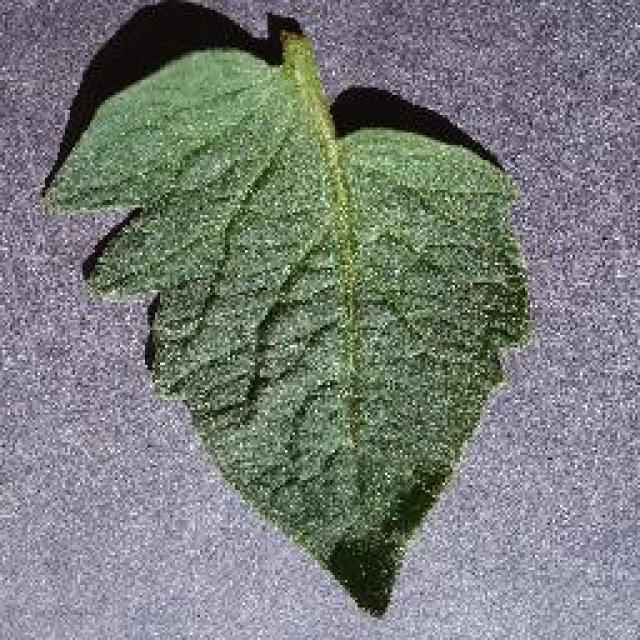Tomato___healthy: (38, 27, 530, 628)
